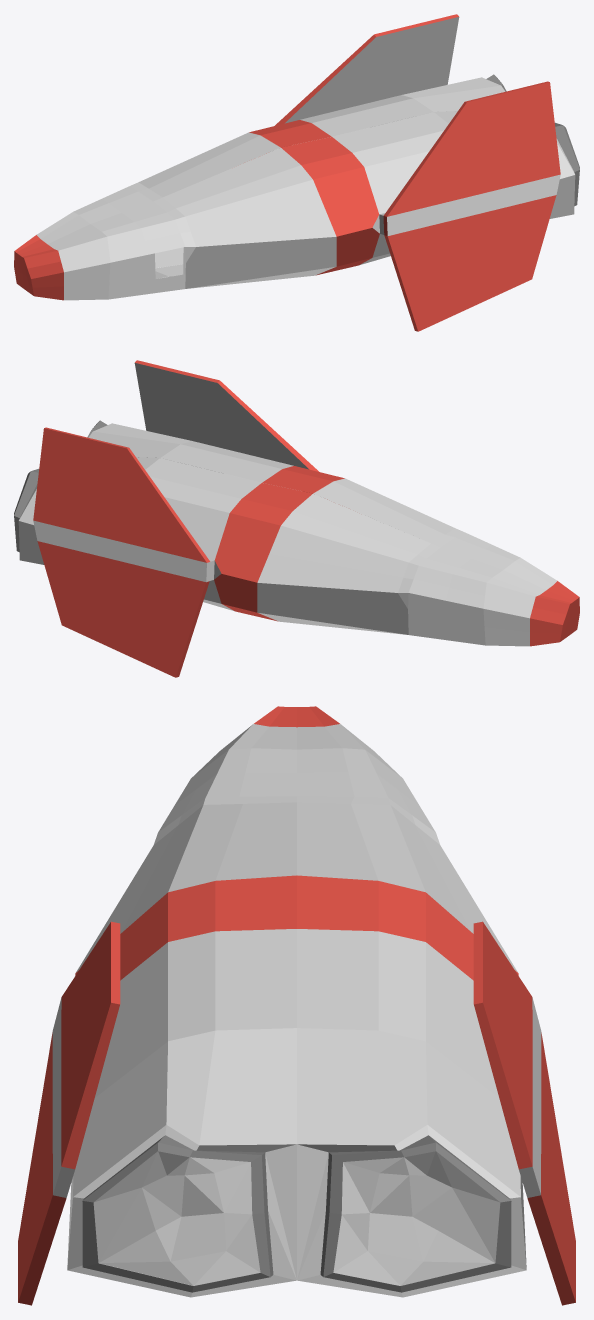
Rendered from CHAIR_repair_new.fbx.
3 views of the same model, one above another, from view 1: azimuth 30°, elevation 25°; view 2: azimuth 150°, elevation 25°; view 3: azimuth 270°, elevation 25° (orthographic). The views are drawn at different scales.
Visible parts, largest first — view 1: spaceShipOutside; view 2: spaceShipOutside; view 3: spaceShipOutside.
Part boxes in pixels (x1,y1,x2,y2): spaceShipOutside: (14, 14, 579, 331); spaceShipOutside: (14, 360, 579, 677); spaceShipOutside: (18, 706, 575, 1305).
Bounding box in the file's own units: 34888 × 12633 × 16276.
